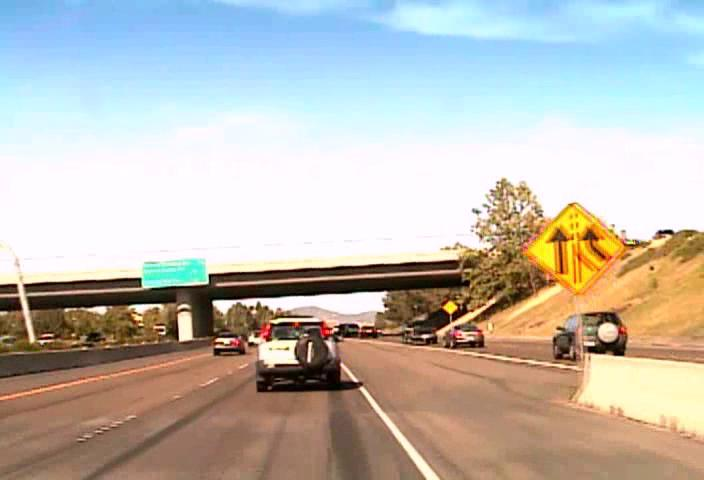addedLane: (522, 201, 625, 295)
